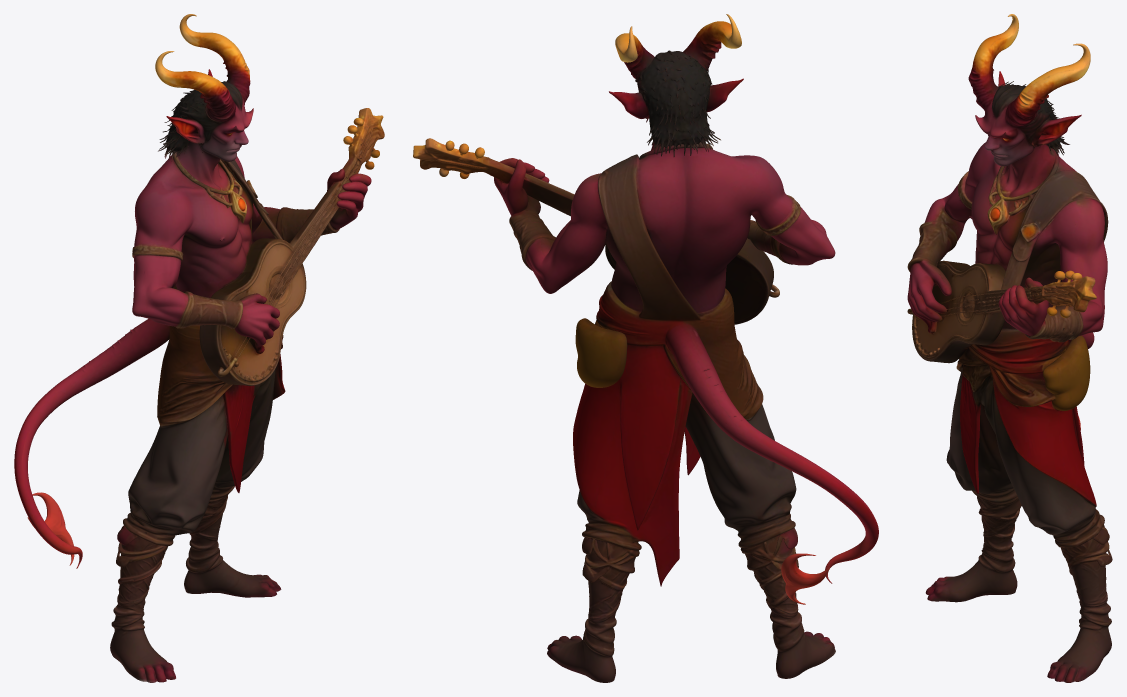
The model's file is tiefling_bard_full_male_01.glb.
3 renders of one model, left to right at view 1: azimuth 30°, elevation 25°; view 2: azimuth 150°, elevation 25°; view 3: azimuth 270°, elevation 25°, orthographic. The views are drawn at different scales.
Parts seen in each view (by area): view 1: material; view 2: material; view 3: material.
Boxes of the visible parts, x1=… form: material: x1=14, y1=14, x2=384, y2=682; material: x1=413, y1=14, x2=878, y2=682; material: x1=907, y1=14, x2=1112, y2=682.
Bounding box in the file's own units: 0.7533 × 1.09 × 0.3356.
Materials: 1 (1 with a texture image).
